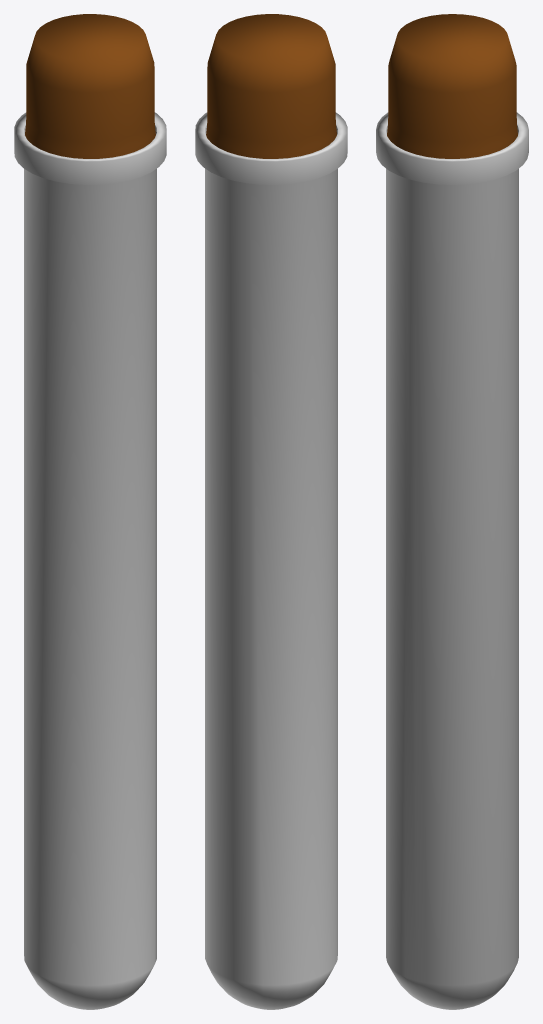
Rendered from provetta.fbx.
3 views of the same model, side by side, from view 1: azimuth 30°, elevation 25°; view 2: azimuth 150°, elevation 25°; view 3: azimuth 270°, elevation 25° (orthographic).
Visible parts, largest first — view 1: Cylinder, Sphere; view 2: Cylinder, Sphere; view 3: Cylinder, Sphere.
Part boxes in pixels (bbox=[...]): Cylinder: bbox=[14, 112, 166, 1009]; Sphere: bbox=[25, 14, 155, 158]; Cylinder: bbox=[195, 112, 347, 1009]; Sphere: bbox=[206, 14, 336, 158]; Cylinder: bbox=[376, 112, 528, 1009]; Sphere: bbox=[387, 14, 517, 158].
Size of the model in its own units: 75.48 by 527 by 75.48.
